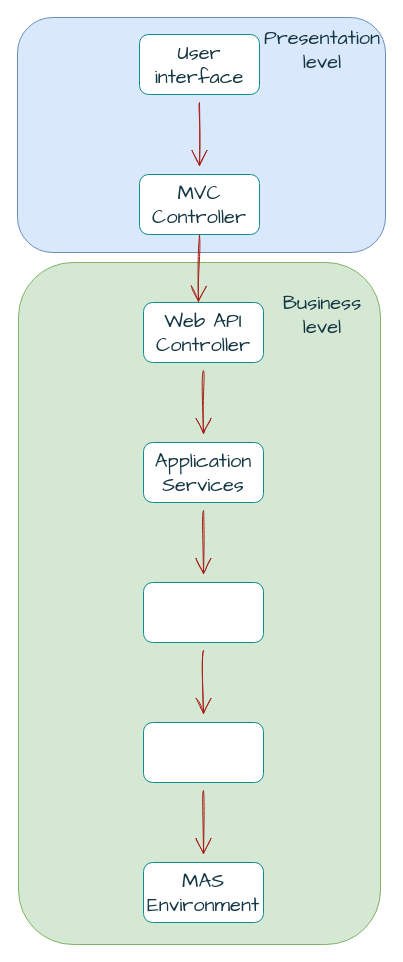
Some shapes in this 403 by 962 pixel diagram are drawn without their labels. The centre of each missing label's shape, as x and y in pixels:
Domain: [203,752]
Repository: [203,612]
